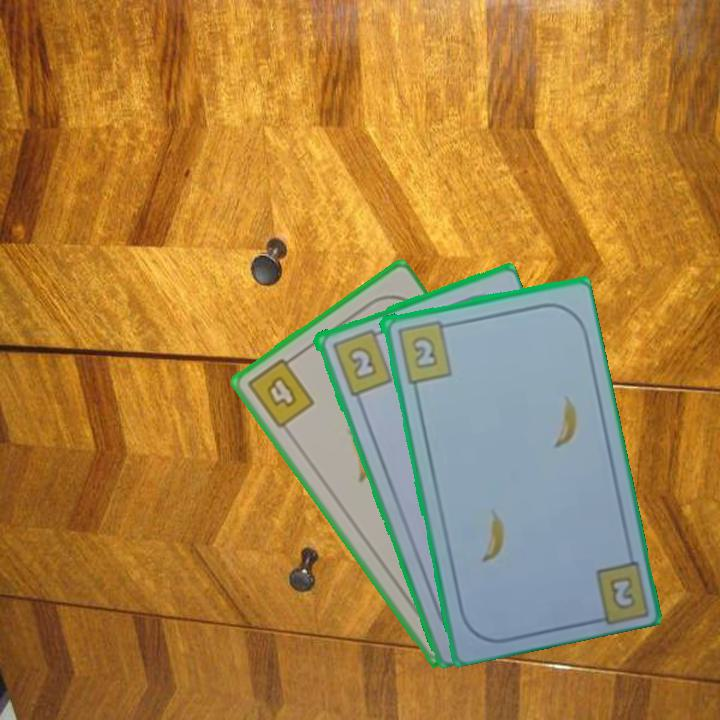2b: (328, 325, 395, 398), (393, 317, 455, 386), (605, 572, 639, 613)
4b: (243, 351, 317, 431)
